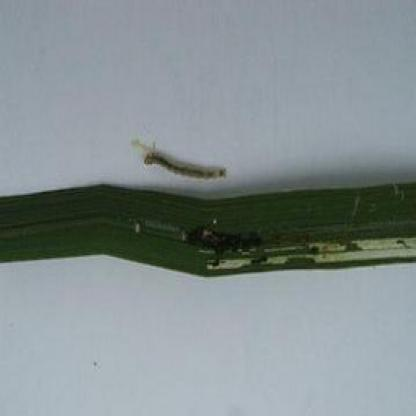leaf-folder: (137, 142, 234, 191)
